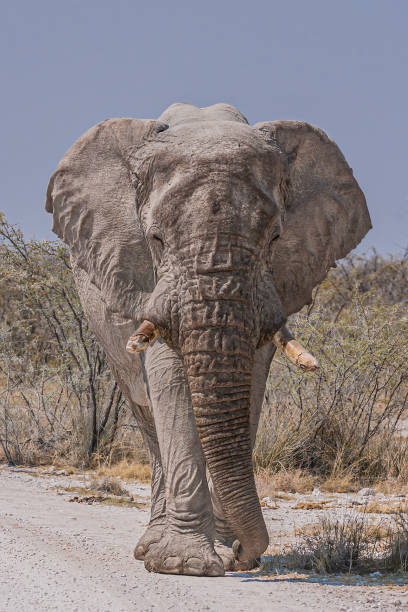africanelephant: (79, 124, 341, 435)
